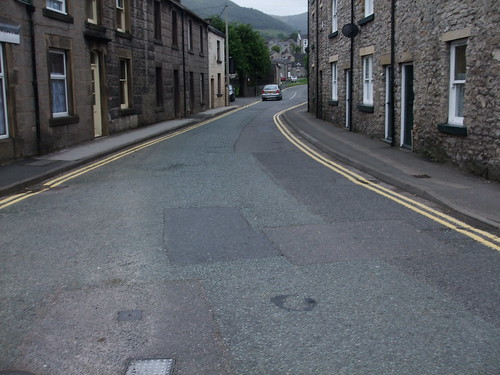building: (1, 1, 224, 147), (312, 1, 500, 132)
street: (8, 109, 500, 370)
